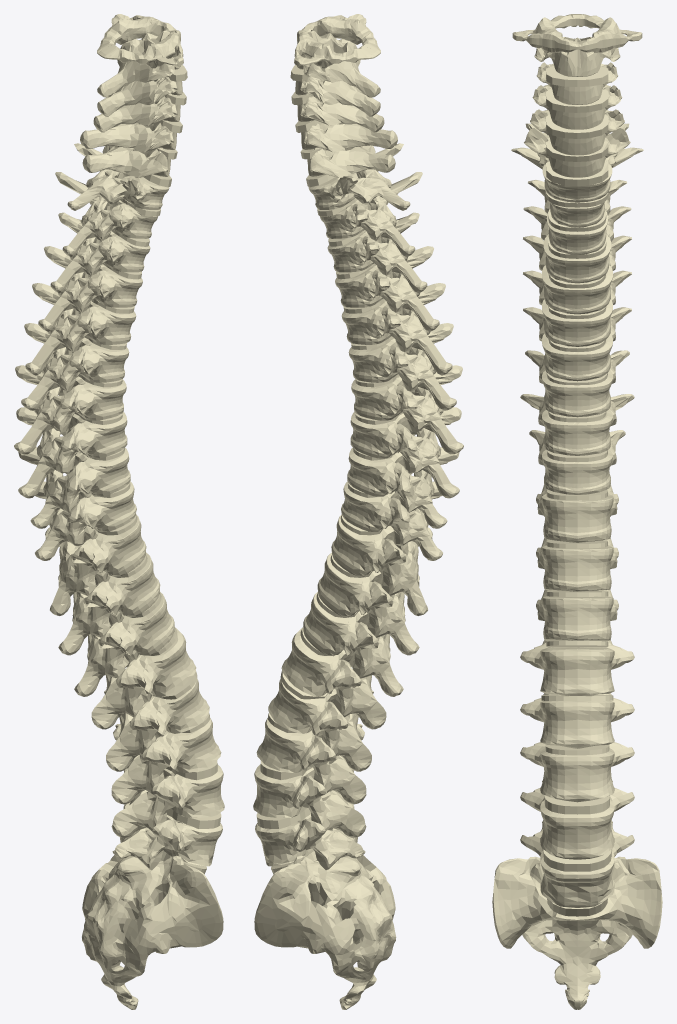
File: spine-opt.glb
The picture shows the model from 3 angles, left to right: view 1: azimuth 30°, elevation 25°; view 2: azimuth 150°, elevation 25°; view 3: azimuth 270°, elevation 25°; orthographic projection.
Parts seen in each view (by area): view 1: 3DSMeshMatrix (×28); view 2: 3DSMeshMatrix (×28); view 3: 3DSMeshMatrix (×28).
Boxes of the visible parts, bbox=[...] form: 3DSMeshMatrix (×28): bbox=[14, 14, 224, 1009]; 3DSMeshMatrix (×28): bbox=[253, 14, 463, 1009]; 3DSMeshMatrix (×28): bbox=[492, 14, 662, 1009].
Bounding box in the file's own units: 5.73 × 26.67 × 4.14.
1 material, 1 textured.
